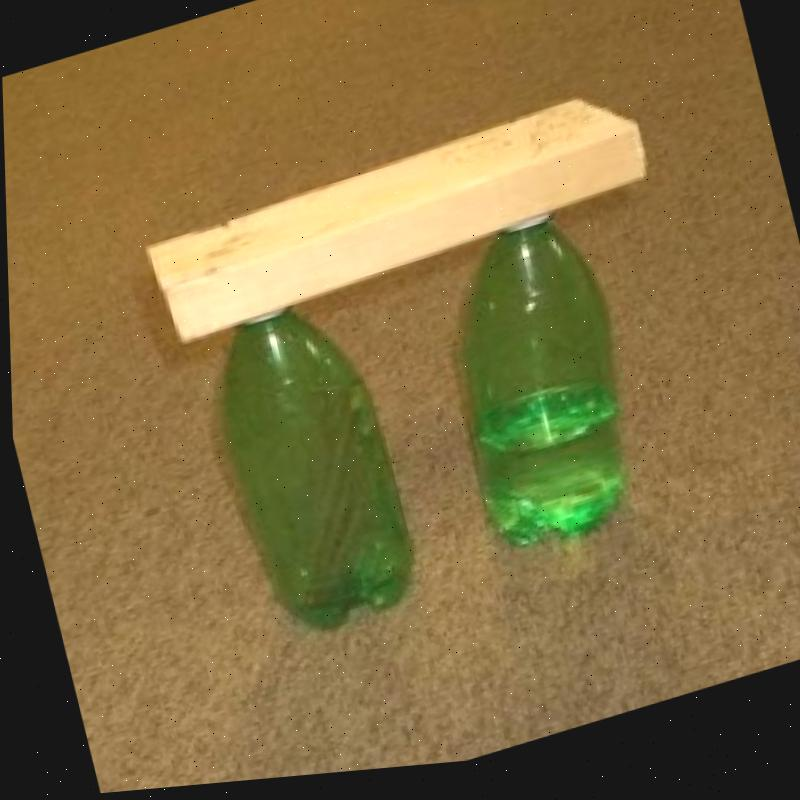botella: (189, 284, 429, 656), (420, 206, 653, 571)
